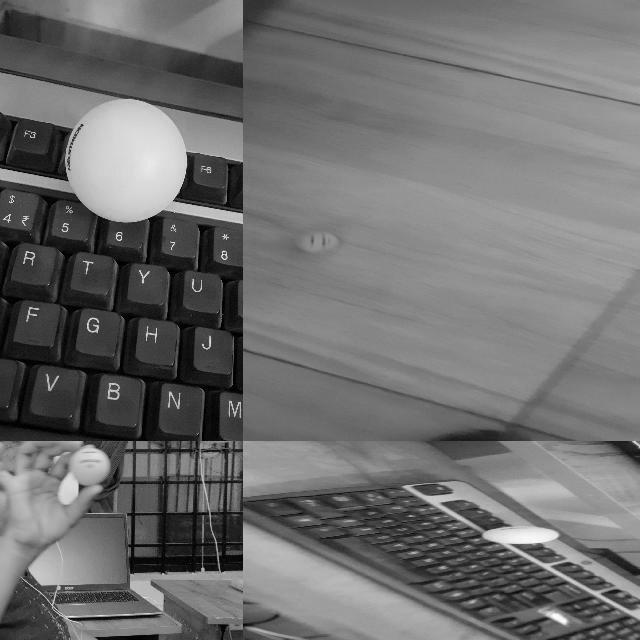ping-pong-ball: (65, 99, 185, 228), (68, 448, 110, 484), (484, 526, 562, 544), (294, 230, 340, 250)
